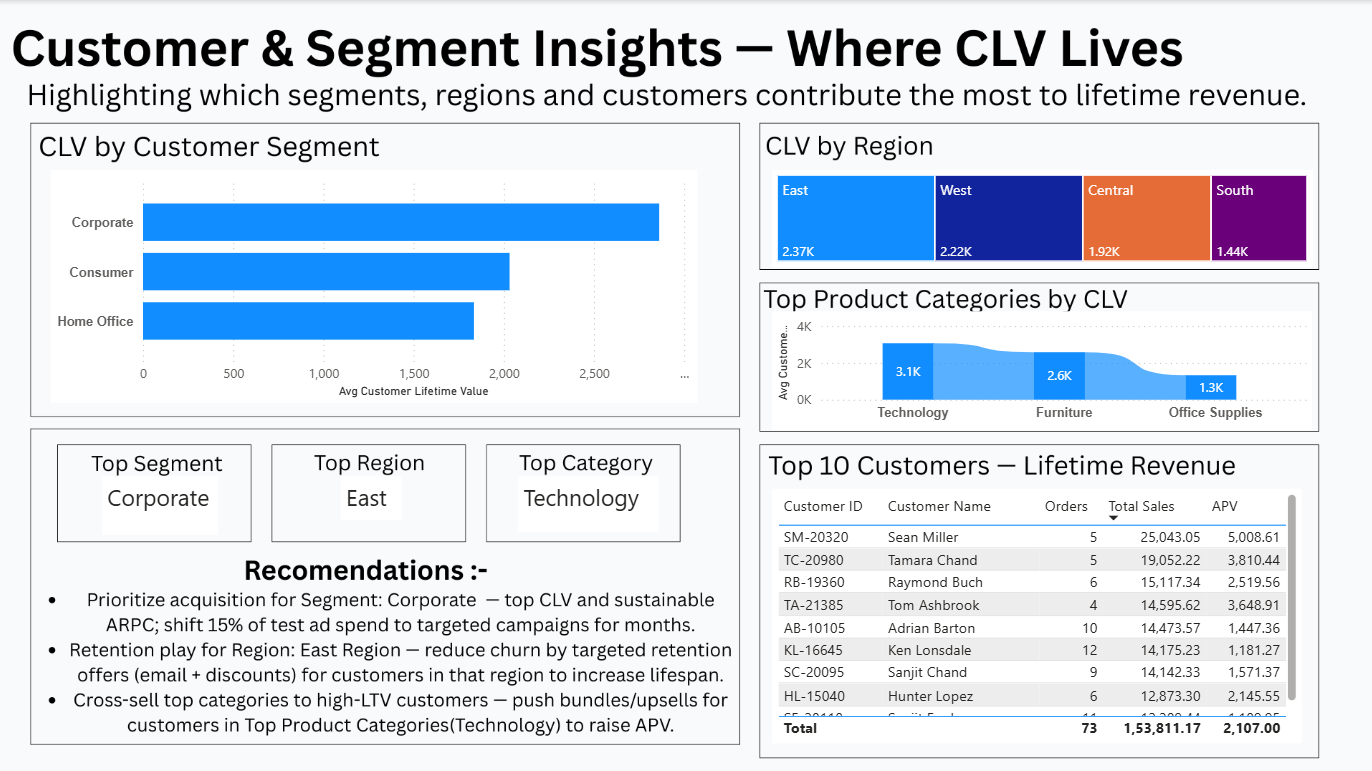

This screenshot's page, from the dashboard's own definition file:
{"tool":"powerbi","page":{"name":"CLV - 3","canvas":[1280,720],"ordinal":2},"visuals":[{"type":"clusteredBarChart","fields":{"Y":["Superstore.Avg CLV (All Time)"],"Category":["Superstore.Segment"]},"box":[50,158.6,601.4,217.1],"z":0},{"type":"treemap","fields":{"Group":["Superstore.Region"],"Values":["Superstore.Avg CLV (All Time)"]},"box":[721.4,158.6,502.9,90],"z":1000},{"type":"ribbonChart","fields":{"Category":["Superstore.Category"],"Y":["Superstore.Avg CLV (All Time)"]},"box":[720.9,289.5,502.3,110.5],"z":2000},{"type":"tableEx","fields":{"Values":["Superstore.Customer ID","Superstore.Customer Name","Superstore.Total Orders","Superstore.Total Sales","Superstore.Average Purchase Value (revenue per order)"]},"box":[721.4,454.3,492.9,237.1],"z":3000},{"type":"textbox","box":[97.7,443,108.1,54.7],"z":4000},{"type":"textbox","box":[319.8,443,57,40.7],"z":5000},{"type":"textbox","box":[484.9,443,130.2,52.3],"z":5001}]}

Visuals, with their boxes in screenshot pixels (x1, y1, x2, y2), scaled from the page's 1280x720 canvas onto the 1372x771 screenshot:
clusteredBarChart - Superstore.Avg CLV (All Time) x Superstore.Segment: BBox(54, 170, 698, 402)
treemap - Superstore.Region x Superstore.Avg CLV (All Time): BBox(773, 170, 1312, 266)
ribbonChart - Superstore.Category x Superstore.Avg CLV (All Time): BBox(773, 310, 1311, 428)
tableEx - Superstore.Customer ID x Superstore.Customer Name: BBox(773, 486, 1302, 740)
textbox: BBox(105, 474, 221, 533)
textbox: BBox(343, 474, 404, 518)
textbox: BBox(520, 474, 659, 530)
